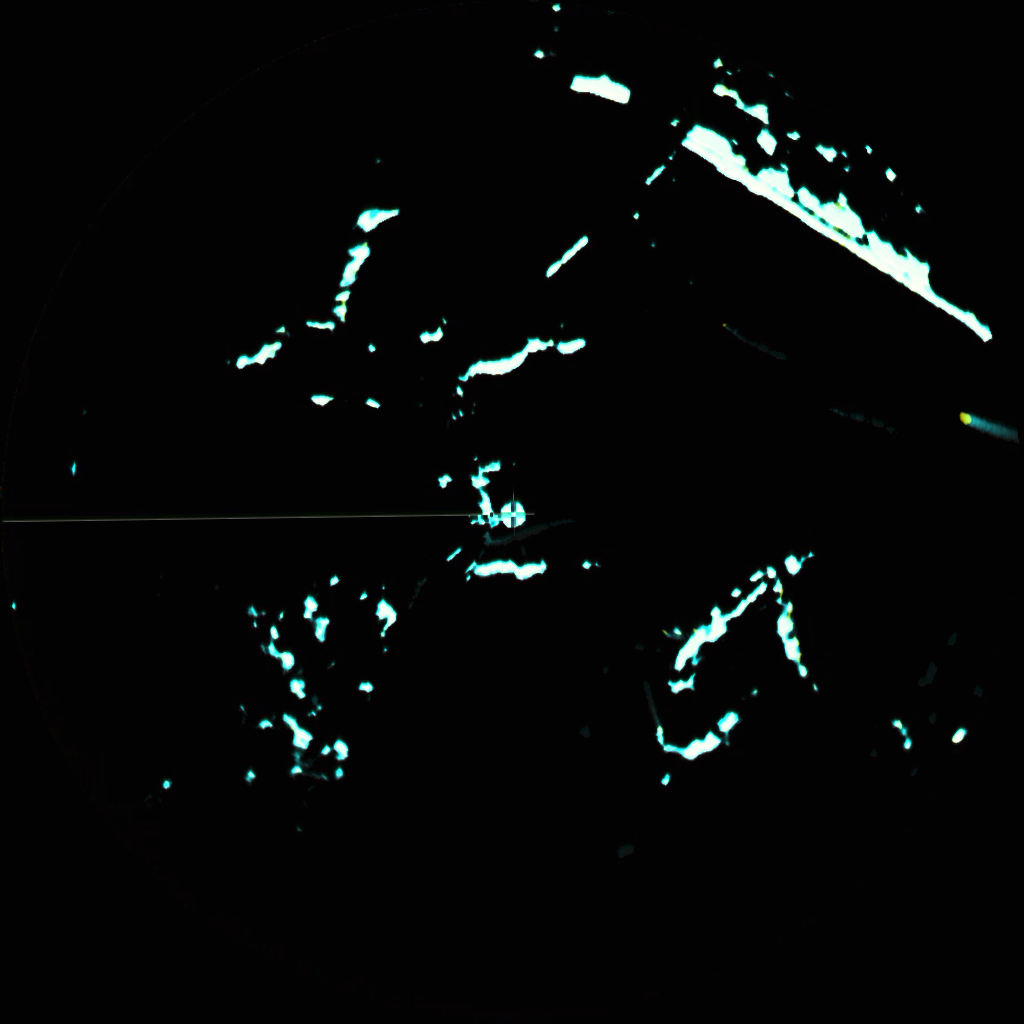B: (962, 412, 1021, 442)
